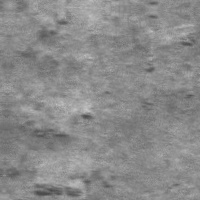rolled-in_scale: (6, 107, 90, 149), (20, 15, 70, 71), (141, 30, 198, 76), (6, 166, 85, 199)
